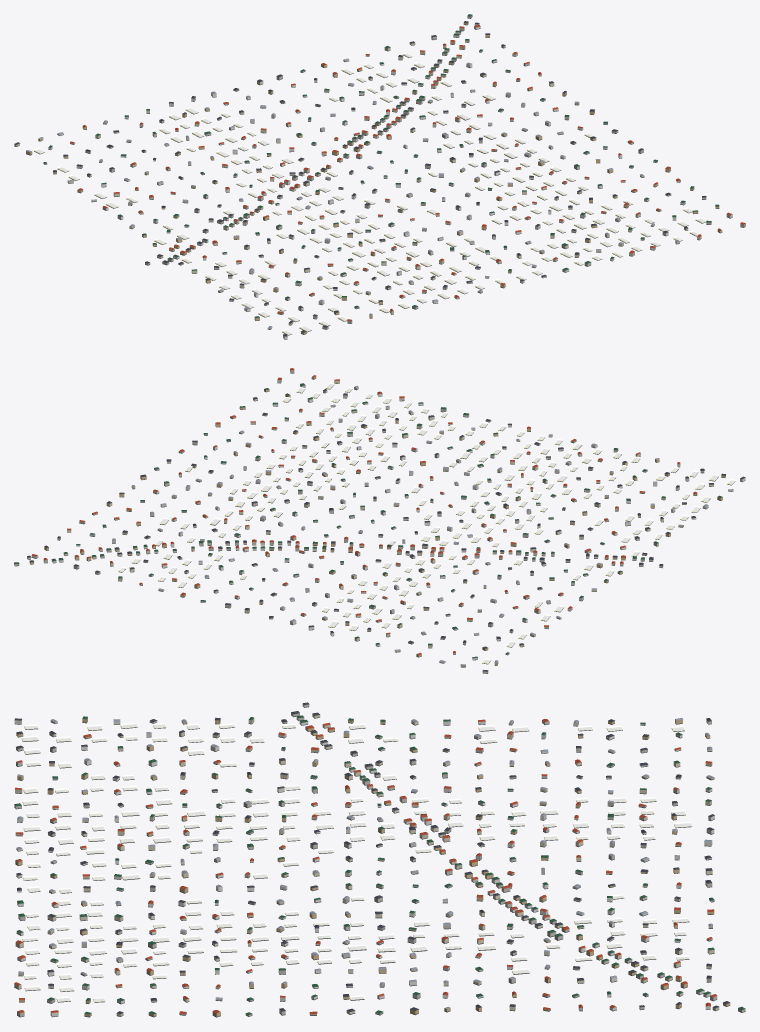
The model's file is buildings_T_E08_S02.glb.
The picture shows the model from 3 angles, top to bottom: view 1: azimuth 30°, elevation 25°; view 2: azimuth 150°, elevation 25°; view 3: azimuth 270°, elevation 25°; orthographic projection. The views are drawn at different scales.
Visible parts, largest first — view 1: T_E08_S02_slope_seating_foundations, T_E08_S02_roofs_agri_greenhouse_arch, T_E08_S02_walls_wall_dalat_cream_stucco, T_E08_S02_walls_wall_modern_warm_white, T_E08_S02_walls_wall_pastel_sand_gray, T_E08_S02_walls_wall_french_ochre_villa, T_E08_S02_roofs_roof_slate_French_villa_hip, T_E08_S02_roofs_roof_terracotta_gable, T_E08_S02_roofs_roof_pine_green_hip, T_E08_S02_roofs_roof_zinc_silver_gable; view 2: T_E08_S02_slope_seating_foundations, T_E08_S02_roofs_agri_greenhouse_arch, T_E08_S02_walls_wall_dalat_cream_stucco, T_E08_S02_walls_wall_modern_warm_white, T_E08_S02_walls_wall_pastel_sand_gray, T_E08_S02_roofs_roof_slate_French_villa_hip, T_E08_S02_walls_wall_french_ochre_villa, T_E08_S02_roofs_roof_terracotta_gable, T_E08_S02_roofs_roof_pine_green_hip, T_E08_S02_roofs_roof_zinc_silver_gable; view 3: T_E08_S02_roofs_agri_greenhouse_arch, T_E08_S02_slope_seating_foundations, T_E08_S02_walls_wall_dalat_cream_stucco, T_E08_S02_walls_wall_pastel_sand_gray, T_E08_S02_walls_wall_modern_warm_white, T_E08_S02_walls_wall_french_ochre_villa, T_E08_S02_roofs_roof_slate_French_villa_hip, T_E08_S02_roofs_roof_terracotta_gable, T_E08_S02_roofs_roof_pine_green_hip, T_E08_S02_roofs_roof_zinc_silver_gable.
Boxes of the visible parts, x1,y1,x2,y2 form: T_E08_S02_slope_seating_foundations: [14, 17, 745, 339]; T_E08_S02_roofs_agri_greenhouse_arch: [34, 52, 706, 335]; T_E08_S02_walls_wall_dalat_cream_stucco: [14, 23, 706, 324]; T_E08_S02_walls_wall_modern_warm_white: [48, 26, 732, 339]; T_E08_S02_walls_wall_pastel_sand_gray: [43, 15, 745, 329]; T_E08_S02_walls_wall_french_ochre_villa: [26, 22, 722, 334]; T_E08_S02_roofs_roof_slate_French_villa_hip: [14, 21, 706, 336]; T_E08_S02_roofs_roof_terracotta_gable: [70, 25, 745, 320]; T_E08_S02_roofs_roof_pine_green_hip: [43, 14, 719, 317]; T_E08_S02_roofs_roof_zinc_silver_gable: [26, 58, 679, 328]; T_E08_S02_slope_seating_foundations: [15, 373, 745, 673]; T_E08_S02_roofs_agri_greenhouse_arch: [118, 382, 735, 663]; T_E08_S02_walls_wall_dalat_cream_stucco: [27, 380, 713, 673]; T_E08_S02_walls_wall_modern_warm_white: [31, 379, 745, 663]; T_E08_S02_walls_wall_pastel_sand_gray: [14, 370, 704, 654]; T_E08_S02_roofs_roof_slate_French_villa_hip: [27, 389, 745, 671]; T_E08_S02_walls_wall_french_ochre_villa: [29, 376, 725, 667]; T_E08_S02_roofs_roof_terracotta_gable: [31, 368, 697, 655]; T_E08_S02_roofs_roof_pine_green_hip: [14, 383, 722, 658]; T_E08_S02_roofs_roof_zinc_silver_gable: [112, 385, 733, 665]; T_E08_S02_roofs_agri_greenhouse_arch: [21, 722, 692, 1002]; T_E08_S02_slope_seating_foundations: [14, 706, 745, 1017]; T_E08_S02_walls_wall_dalat_cream_stucco: [14, 714, 719, 1016]; T_E08_S02_walls_wall_pastel_sand_gray: [14, 704, 745, 1016]; T_E08_S02_walls_wall_modern_warm_white: [14, 720, 714, 1016]; T_E08_S02_walls_wall_french_ochre_villa: [15, 718, 730, 1016]; T_E08_S02_roofs_roof_slate_French_villa_hip: [14, 702, 730, 1014]; T_E08_S02_roofs_roof_terracotta_gable: [14, 719, 717, 1014]; T_E08_S02_roofs_roof_pine_green_hip: [14, 715, 745, 1014]; T_E08_S02_roofs_roof_zinc_silver_gable: [16, 718, 713, 1009].
Bounding box in the file's own units: 1880 × 37.64 × 1850.
